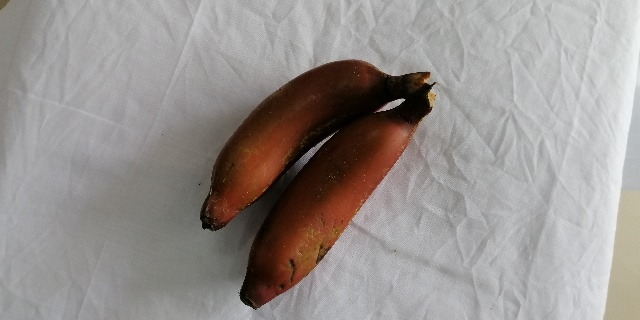banana_red: (239, 82, 434, 308), (195, 59, 428, 232)
